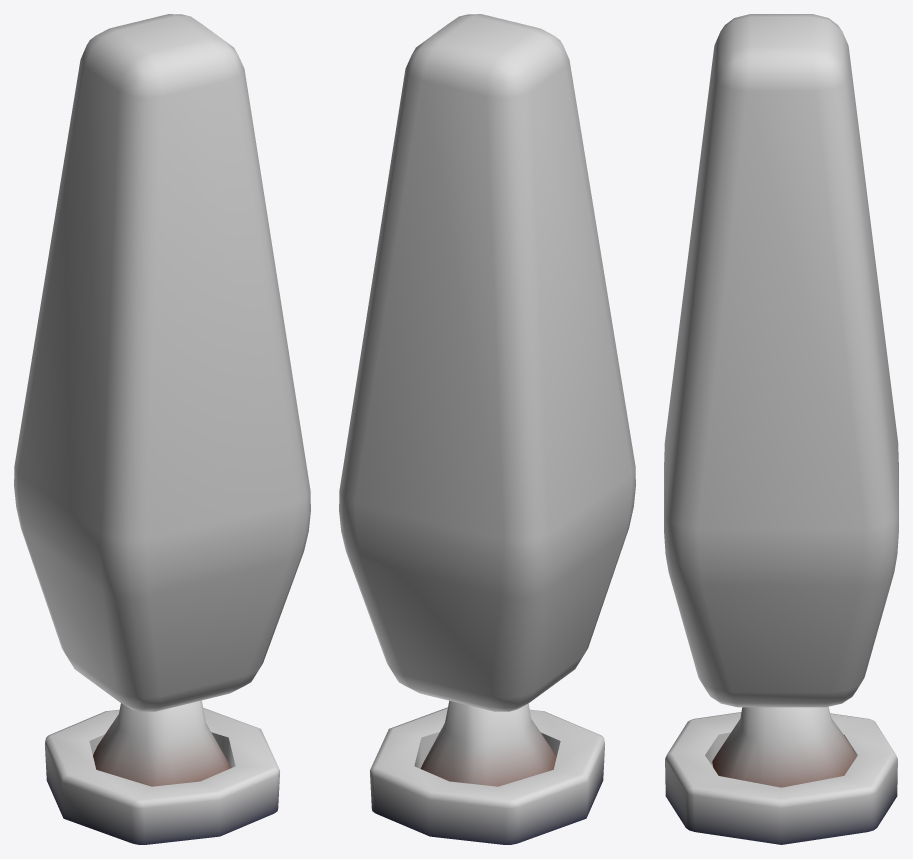
File: NF_Veg_Tree_03.fbx
3 views of the same model, side by side, from view 1: azimuth 30°, elevation 25°; view 2: azimuth 150°, elevation 25°; view 3: azimuth 270°, elevation 25° (orthographic).
Parts seen in each view (by area): view 1: Tree_03; view 2: Tree_03; view 3: Tree_03.
Boxes of the visible parts, bbox=[...] form: Tree_03: bbox=[14, 14, 310, 844]; Tree_03: bbox=[339, 14, 635, 844]; Tree_03: bbox=[664, 14, 898, 844].
Bounding box in the file's own units: 1.64 × 5.76 × 1.6.
